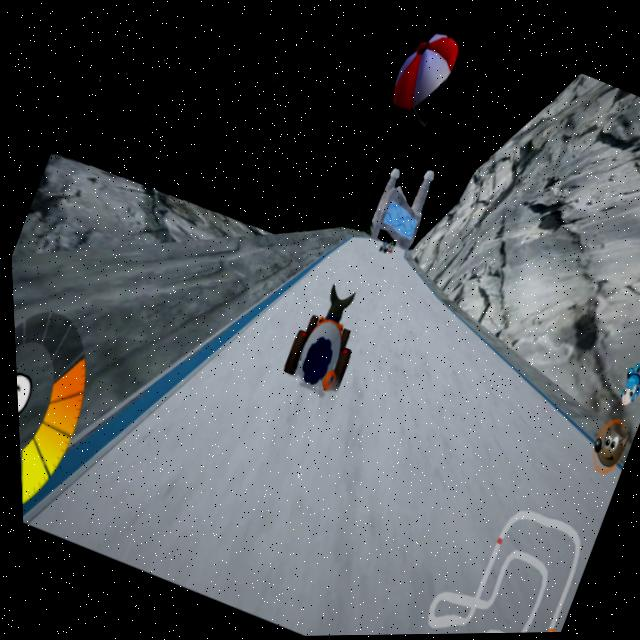enemy_kart: (371, 236, 395, 263)
player_kart: (273, 278, 377, 397)
